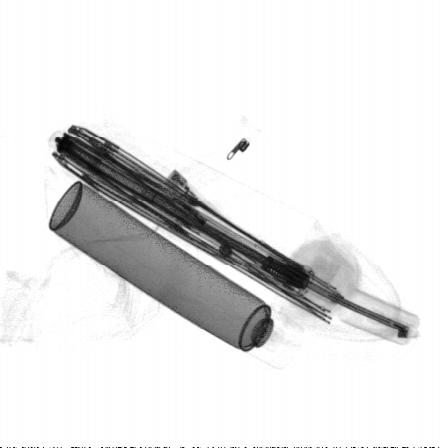Lighter: (336, 288, 422, 348)
Sprayer: (49, 181, 306, 370)
